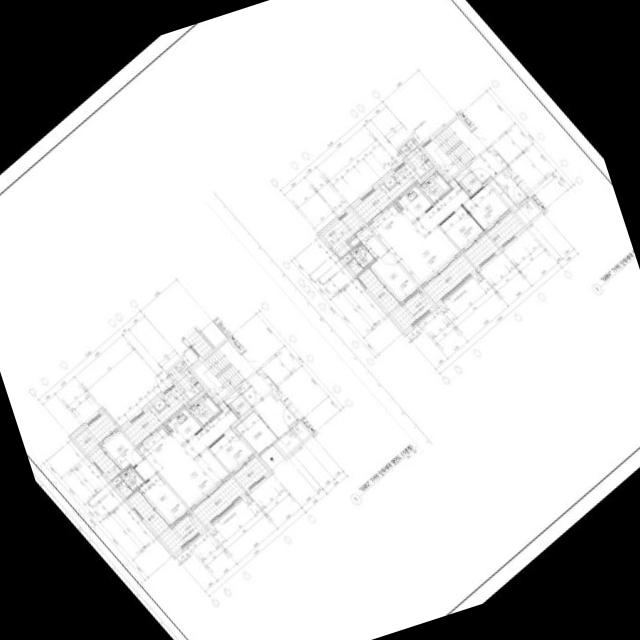background: (0, 0, 640, 640)
space_balconi: (358, 267, 433, 330), (127, 490, 203, 552), (353, 162, 422, 223), (123, 385, 191, 446), (464, 211, 524, 267), (74, 412, 121, 480), (422, 254, 474, 302), (322, 210, 364, 257), (167, 359, 200, 400), (397, 137, 430, 177), (233, 455, 268, 490)
space_bedroom: (139, 473, 188, 525), (370, 251, 418, 301), (463, 184, 509, 229), (209, 428, 253, 472), (440, 206, 483, 249), (101, 430, 143, 470)
space_dressroom: (349, 227, 387, 259)
space_elevator: (262, 369, 285, 396)
space_elevator_hall: (237, 365, 298, 438)
space_front: (233, 409, 278, 455), (454, 167, 482, 196), (224, 390, 252, 418)
space_kitchen: (369, 185, 432, 245), (138, 408, 201, 468)
space_living_room: (133, 401, 244, 525), (385, 179, 469, 285)
space_other: (468, 148, 501, 183), (276, 430, 301, 454), (292, 422, 310, 441), (206, 390, 219, 404), (153, 398, 166, 411), (437, 168, 449, 181), (384, 176, 396, 188), (112, 475, 122, 485), (342, 253, 352, 263), (196, 382, 204, 391), (426, 159, 434, 168)
space_staircase: (193, 339, 260, 400), (424, 117, 484, 177)
space_toilet: (188, 393, 221, 425), (419, 171, 451, 202), (116, 465, 144, 498), (350, 243, 374, 268), (347, 258, 363, 274)
